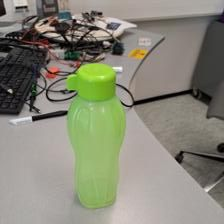bottle: (62, 60, 128, 212)
